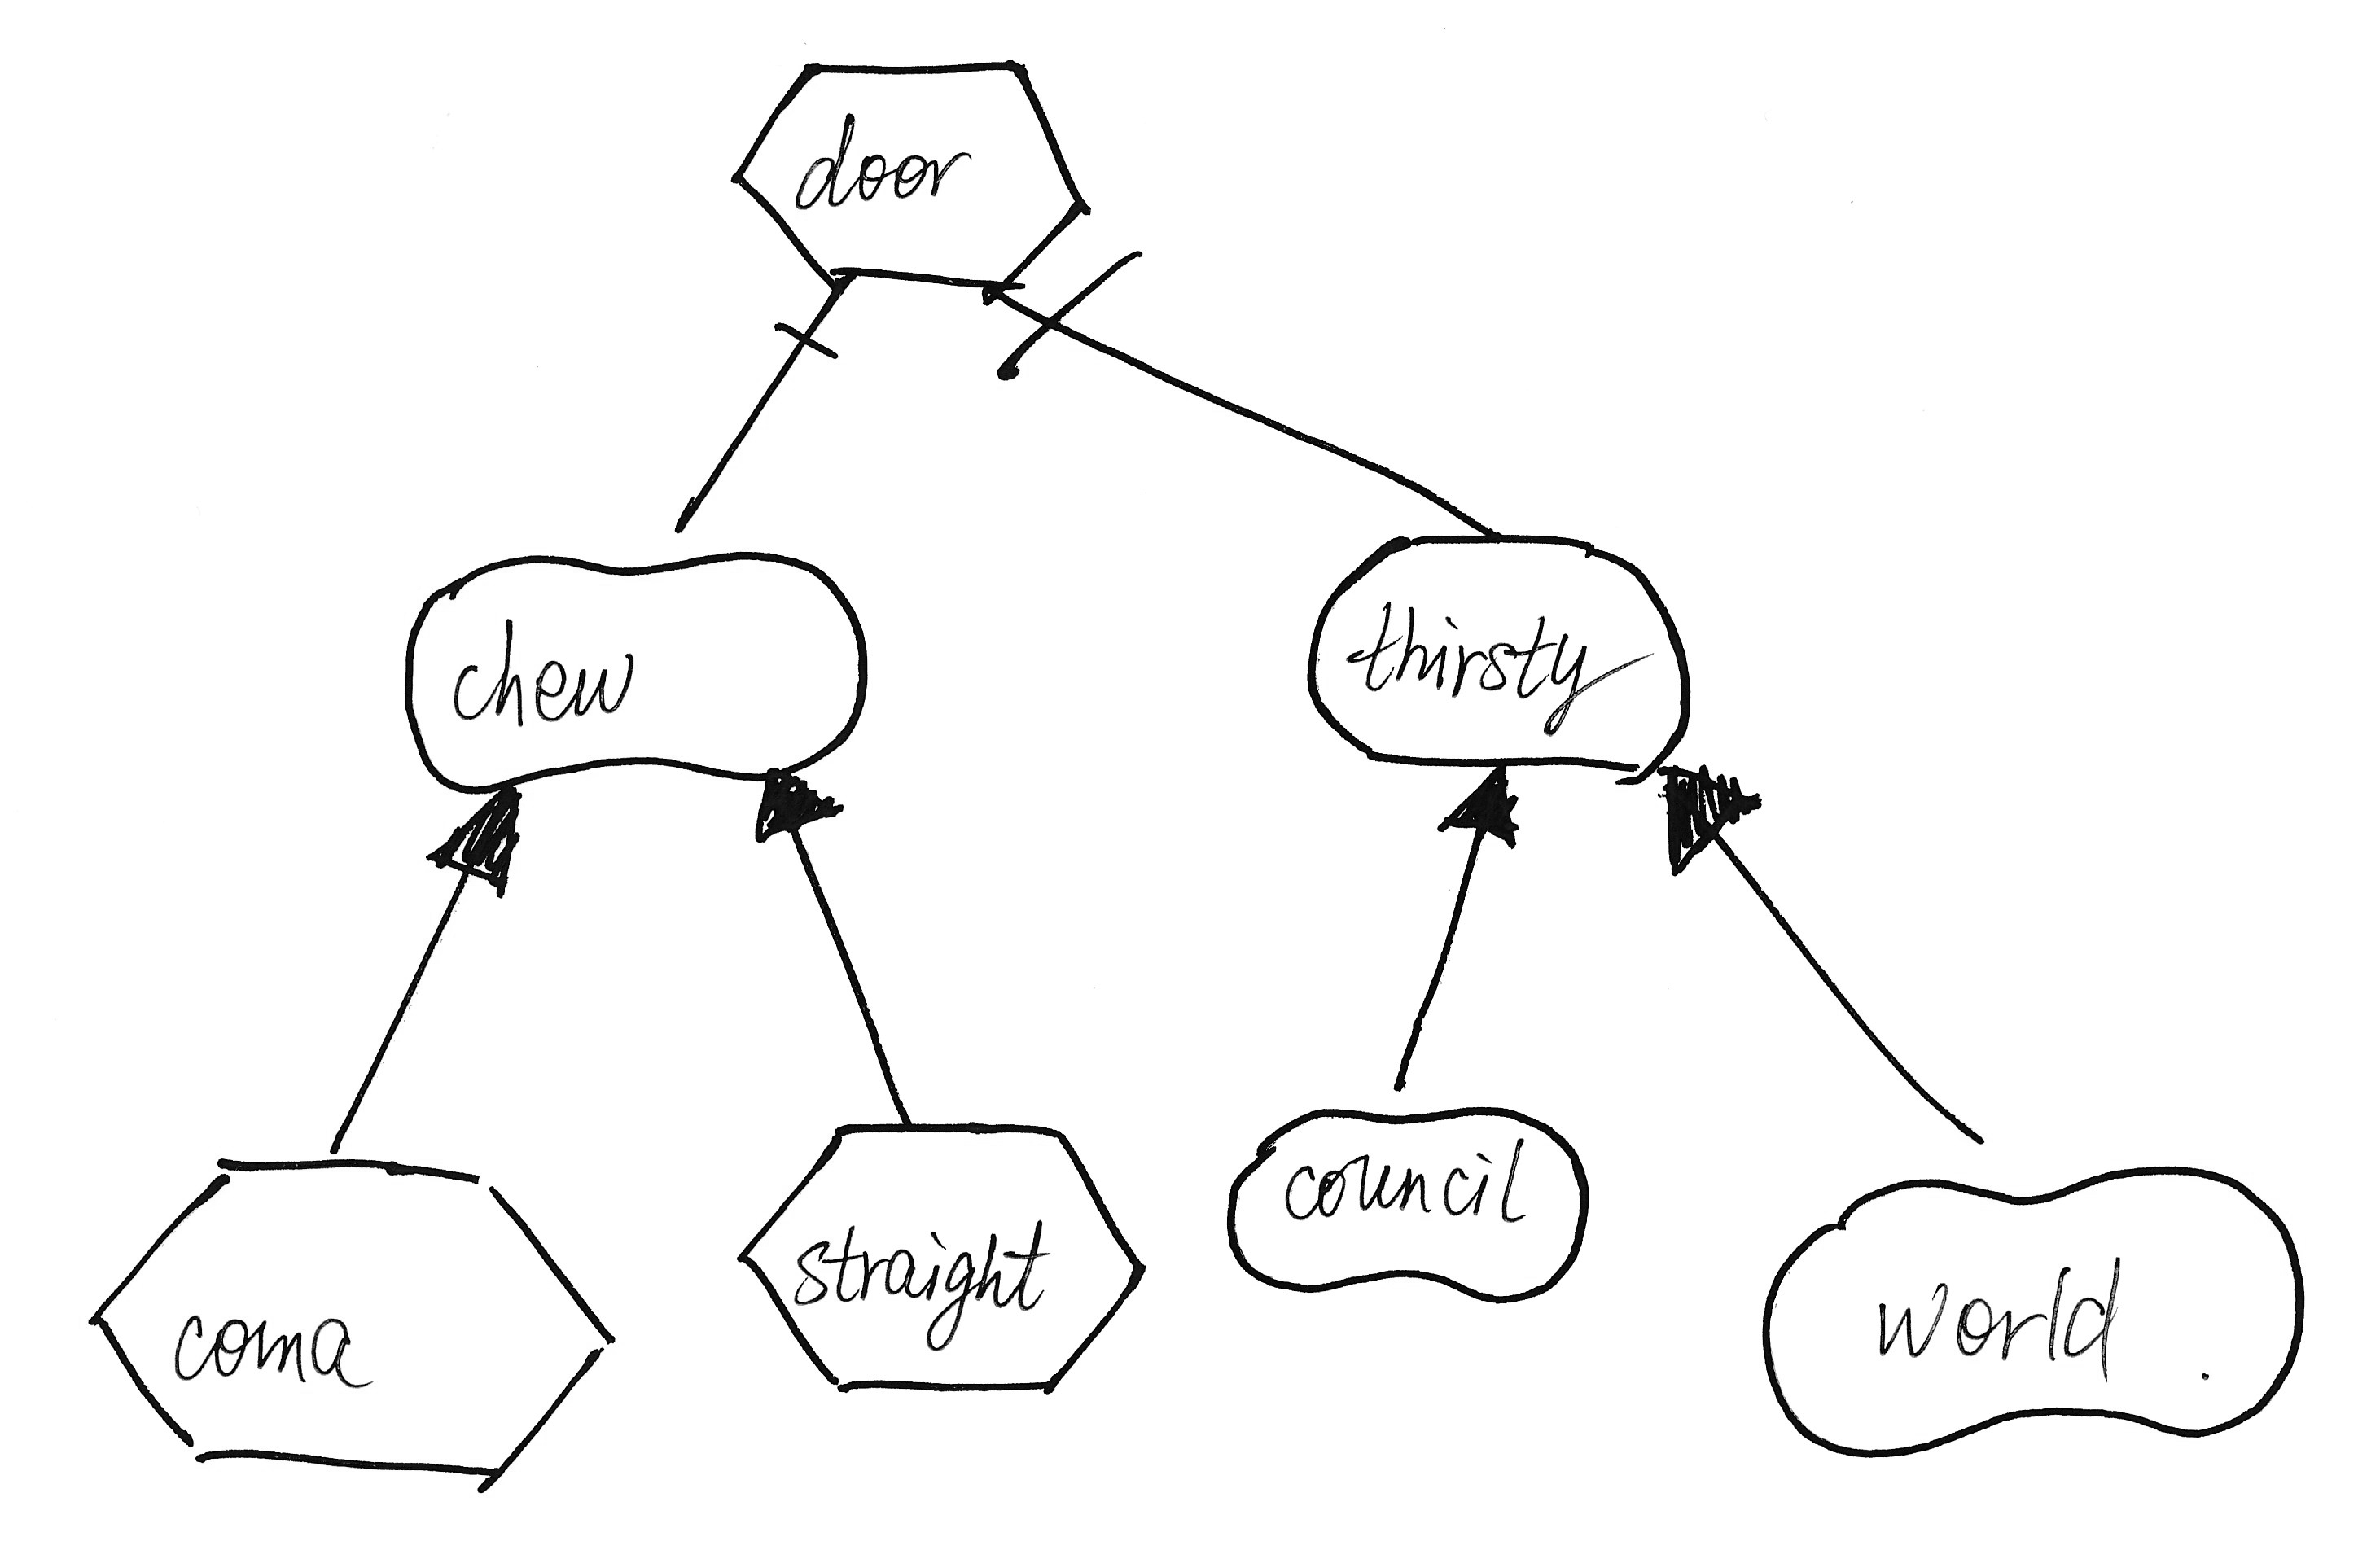and: (986, 241, 1169, 401), (742, 269, 874, 392)
goal: (1284, 513, 1708, 804)
or: (1637, 752, 1773, 890), (412, 769, 543, 912), (731, 754, 872, 867), (1429, 743, 1537, 872)
quality: (1743, 1146, 2324, 1474), (375, 530, 885, 822), (1206, 1085, 1617, 1317)
task: (68, 1132, 642, 1512), (722, 1089, 1162, 1418), (710, 24, 1101, 317)
